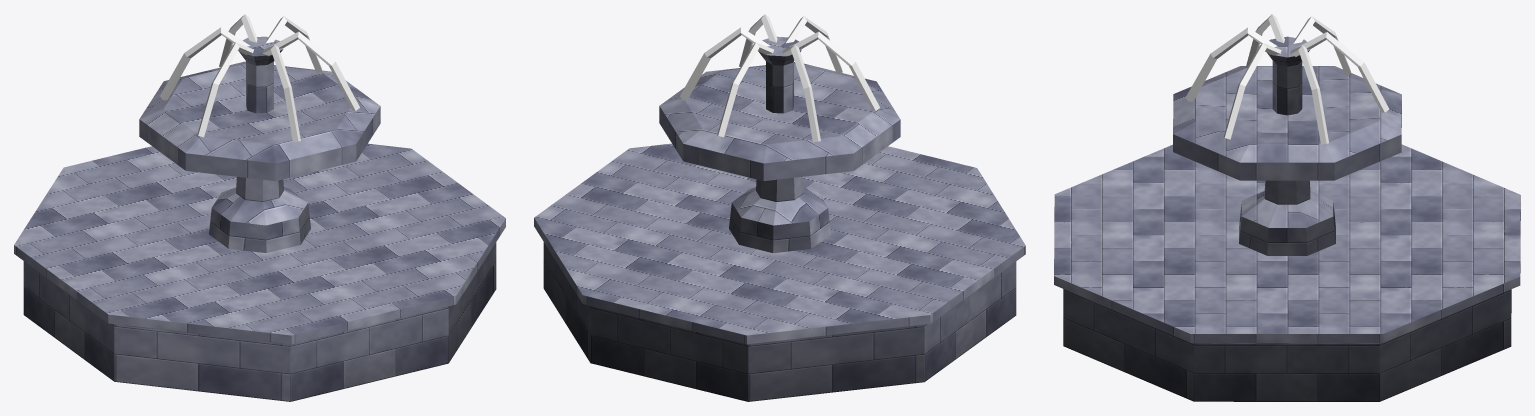
Rendered from fountain.glb.
3 views of the same model, side by side, from view 1: azimuth 30°, elevation 25°; view 2: azimuth 150°, elevation 25°; view 3: azimuth 270°, elevation 25° (orthographic).
Visible parts, largest first — view 1: fountain; view 2: fountain; view 3: fountain.
Boxes of the visible parts, x1=… form: fountain: x1=14, y1=14, x2=505, y2=401; fountain: x1=534, y1=14, x2=1025, y2=401; fountain: x1=1054, y1=14, x2=1520, y2=401.
Size of the model in its own units: 1.89 by 1.24 by 1.89.
4 materials, 4 textured.
